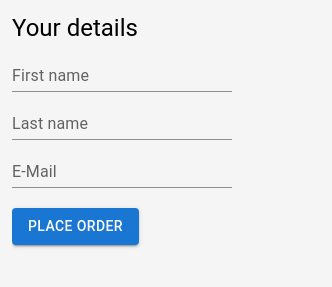
it: CheckoutForm › should not submit if incorrect email address
Type "John" into the field with test id "CHECKOUT_FORM_FIRST_NAME". click: (122, 76)
box: [12,60,232,92]
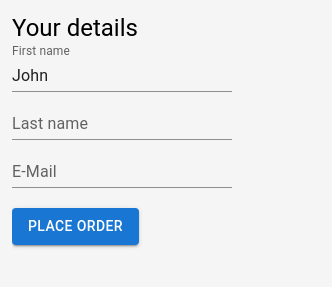
Type "Doe" into the field with test id "CHECKOUT_FORM_LAST_NAME". click: (122, 124)
box: [12,108,232,140]
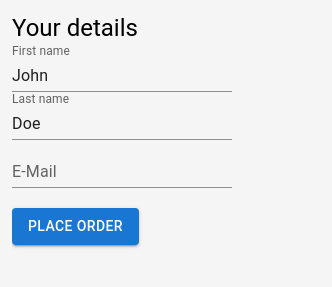
Type "john.doe@" into the field with test id "CHECKOUT_FORM_EMAIL". click: (122, 172)
box: [12,156,232,188]
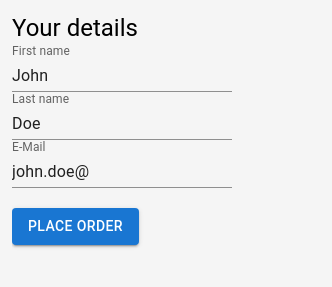
Click the button with test id "CHECKOUT_PLACE_ORDER_BUTTON". click: (76, 226)
box: [12,208,139,244]
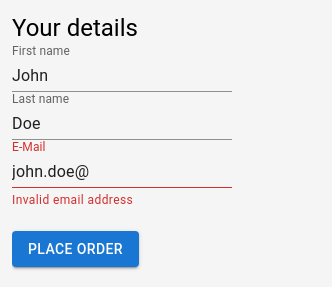
Expected: the text "Invalid email address" is shown, [12,193,133,207]
